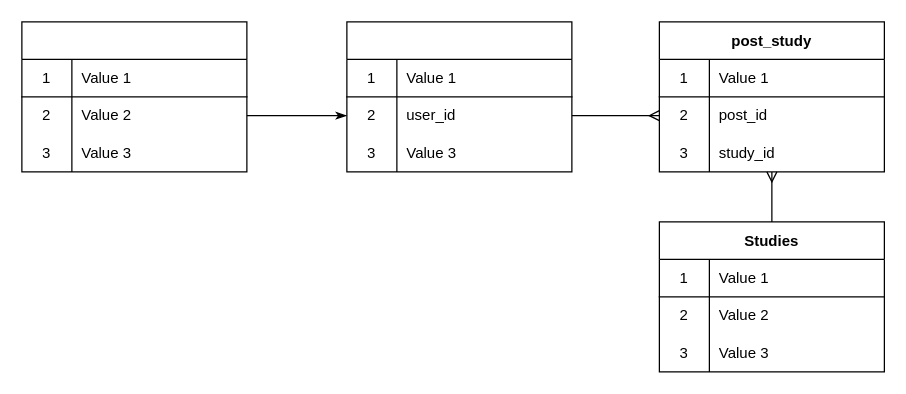
The diagram is 906 pixels wide and 394 high, and some of its shapes have lost their labels. The shapes that lost their labels are listed below. From the top down, each one's box as (x1, y1, x2, y2) in pixels, then its label:
(21, 21, 247, 172): Users
(346, 21, 572, 172): Posts
